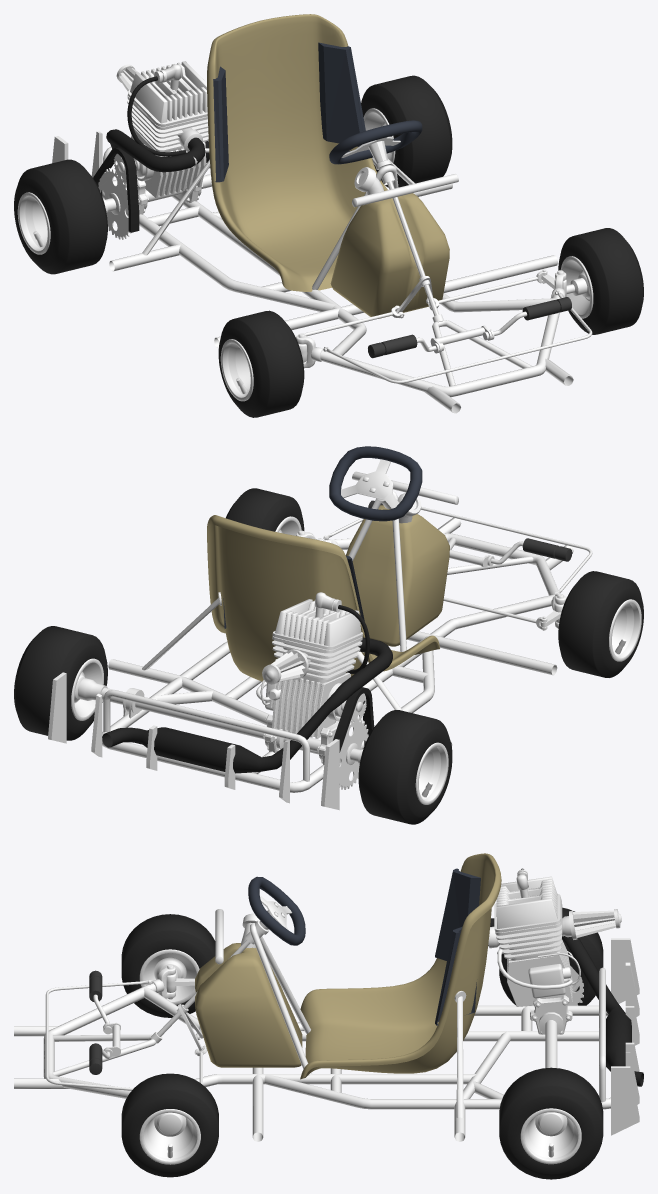
File: kart.fbx
3 views of the same model, one above another, from view 1: azimuth 30°, elevation 25°; view 2: azimuth 150°, elevation 25°; view 3: azimuth 270°, elevation 25° (orthographic). The views are drawn at different scales.
Parts seen in each view (by area): view 1: Plane05, Object04, ChamferBox01 (×2), Line13, Line15, Line14, Line07, Plane06, Object15, Torus04, Torus01, Line12 (+13 smaller); view 2: Object04, Plane05, ChamferBox01 (×2), Line13, Torus04, Line07, Line15, Plane04, Object15, Box01, Torus01, Line14 (+14 smaller); view 3: Object04, Plane05, ChamferBox01 (×2), Line07, Line14, Line15, Plane04, Object15, Plane06, Line08, Line06, Box01 (+11 smaller).
Part boxes in pixels (x1,y1,x2,y2): Plane05: (207, 14, 387, 291); Object04: (102, 141, 573, 413); ChamferBox01 (×2): (127, 95, 449, 318); Line13: (14, 159, 107, 274); Line15: (218, 310, 304, 417); Line14: (558, 228, 643, 334); Line07: (361, 75, 452, 187); Plane06: (213, 42, 365, 182); Object15: (128, 61, 207, 126); Torus04: (106, 129, 209, 172); Torus01: (329, 120, 422, 164); Line12: (220, 339, 253, 401); Object04: (102, 491, 573, 792); Plane05: (207, 515, 439, 681); ChamferBox01 (×2): (272, 505, 449, 679); Line13: (358, 710, 452, 824); Torus04: (102, 637, 392, 773); Line07: (14, 626, 107, 740); Line15: (558, 571, 643, 677); Plane04: (48, 672, 339, 810); Object15: (272, 599, 362, 649); Box01: (265, 672, 350, 738); Torus01: (329, 446, 422, 521); Line14: (226, 488, 304, 531); Object04: (14, 910, 610, 1141); Plane05: (300, 853, 501, 1079); ChamferBox01 (×2): (195, 899, 562, 1067); Line07: (499, 1067, 603, 1179); Line14: (121, 1073, 218, 1177); Line15: (121, 914, 215, 1017); Plane04: (611, 938, 639, 1135); Object15: (494, 876, 560, 932); Plane06: (435, 868, 480, 1025); Line08: (520, 1108, 581, 1164); Line06: (139, 1109, 200, 1164); Box01: (507, 939, 572, 1006).
Bounding box in the file's own units: 1650 × 887 × 2345.
